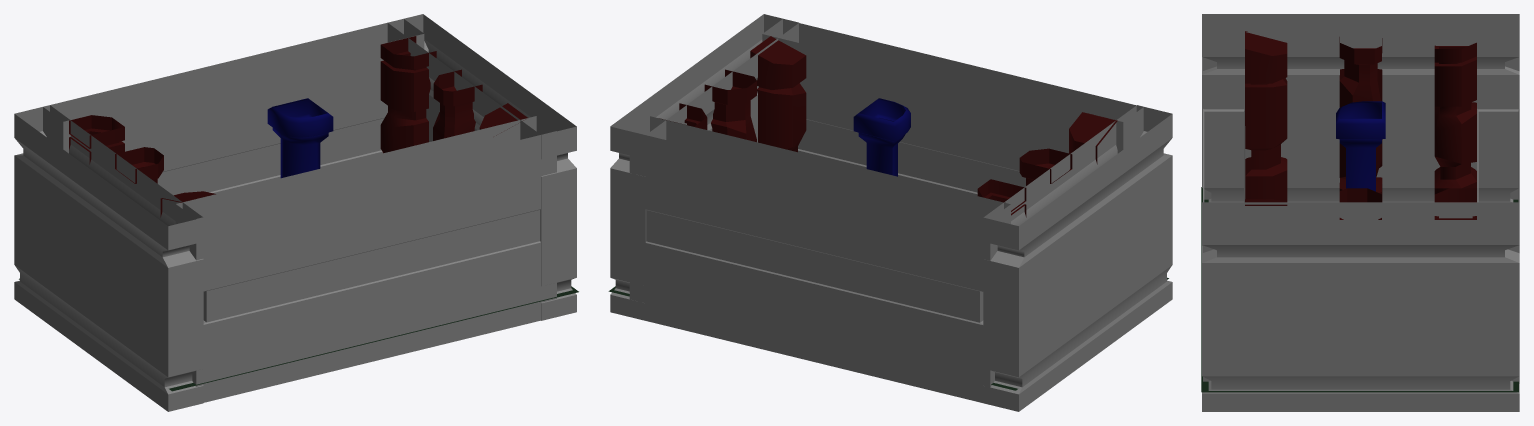
The model's file is Mind Palace.fbx.
3 views of the same model, side by side, from view 1: azimuth 30°, elevation 25°; view 2: azimuth 150°, elevation 25°; view 3: azimuth 270°, elevation 25° (orthographic). The views are drawn at different scales.
Visible parts, largest first — view 1: pCube55 (×4); view 2: pCube55 (×3); view 3: pCube55 (×4).
Part boxes in pixels (x1,y1,x2,y2): pCube55 (×4): (14, 14, 578, 411); pCube55 (×3): (610, 14, 1172, 411); pCube55 (×4): (1201, 14, 1519, 411).
Size of the model in its own units: 23.15 by 10.48 by 15.04.
